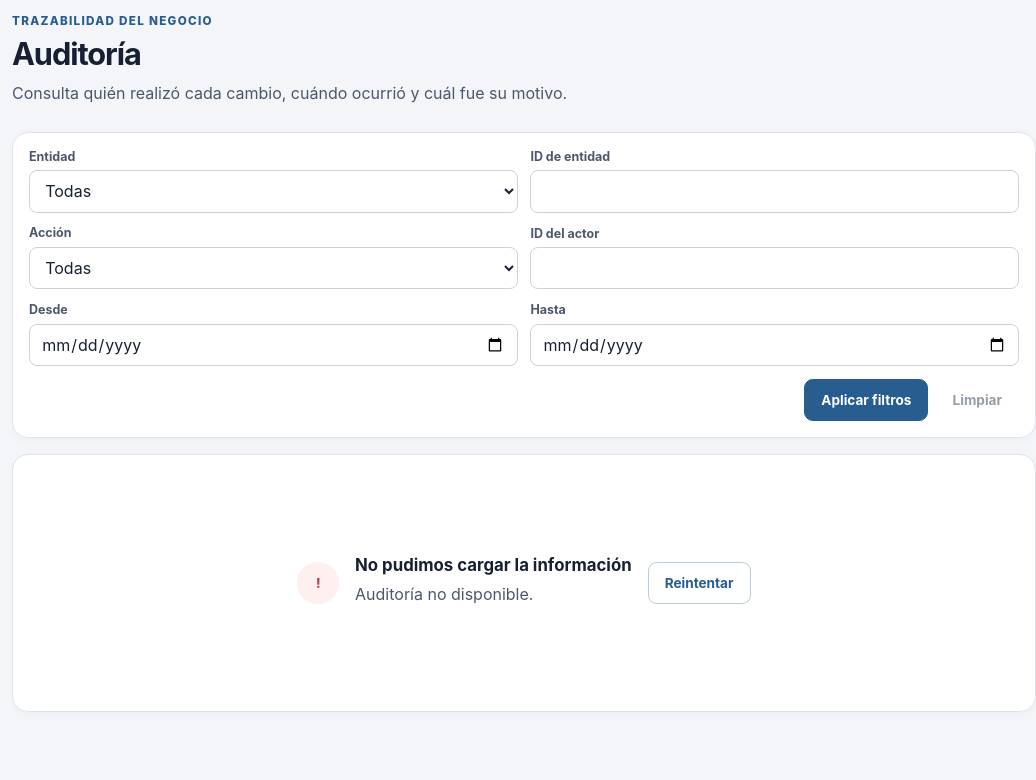
it: Audit pages › shows list errors with retry and an empty filtered result
Check: the text "Auditoría no disponible." is shown, box [355,584,533,604]
Click the button "Reintentar" at (699,583), box [648,562,750,604]
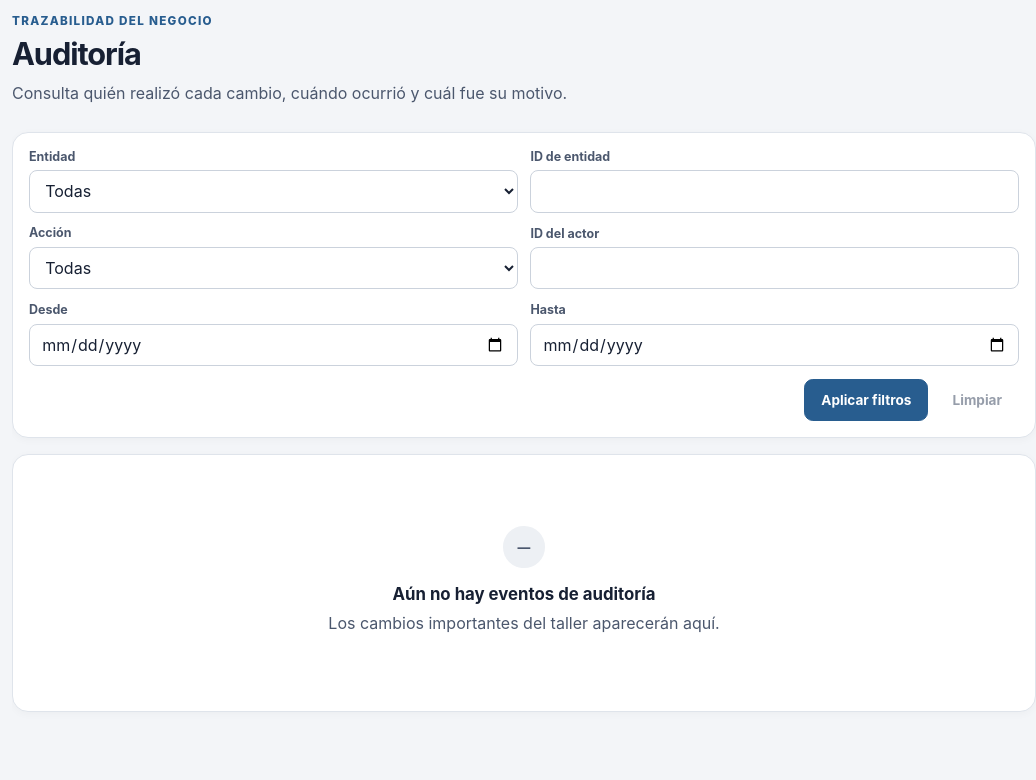
Check: the heading "Aún no hay eventos de auditoría" is shown, box [392,584,656,604]
